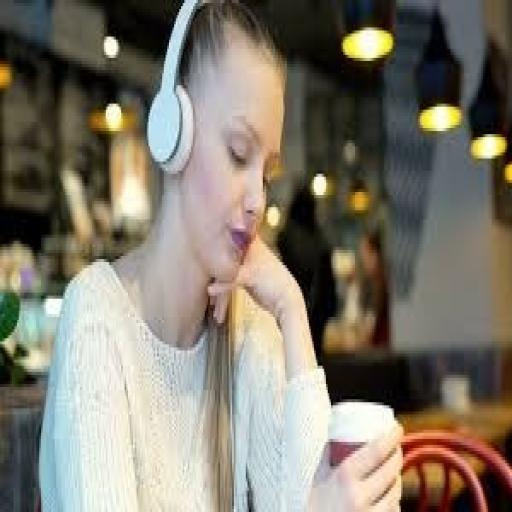listening_to_music: (36, 0, 406, 509)
